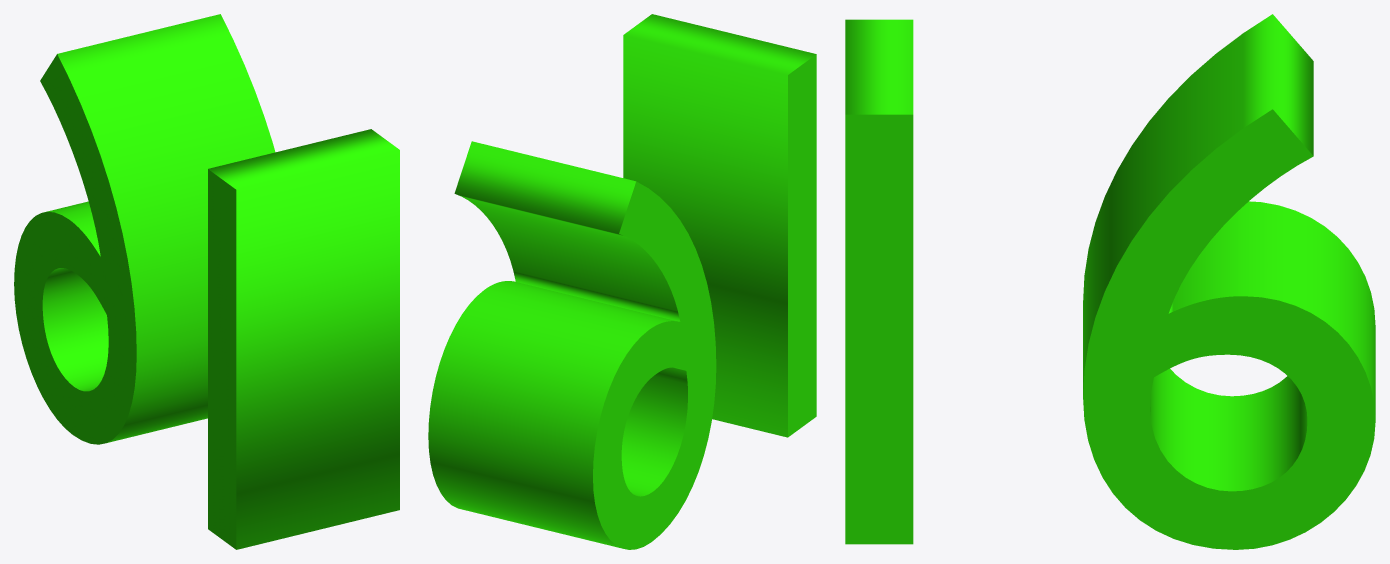
Rendered from number16.obj.
The picture shows the model from 3 angles, left to right: view 1: azimuth 30°, elevation 25°; view 2: azimuth 150°, elevation 25°; view 3: azimuth 270°, elevation 25°; orthographic projection. The views are drawn at different scales.
Parts seen in each view (by area): view 1: Text.014_Text.021; view 2: Text.014_Text.021; view 3: Text.014_Text.021.
Boxes of the visible parts, x1,y1,x2,y2 form: Text.014_Text.021: [14, 14, 399, 549]; Text.014_Text.021: [428, 14, 816, 549]; Text.014_Text.021: [845, 14, 1375, 549].
Bounding box in the file's own units: 2.23 × 4.83 × 5.26.
